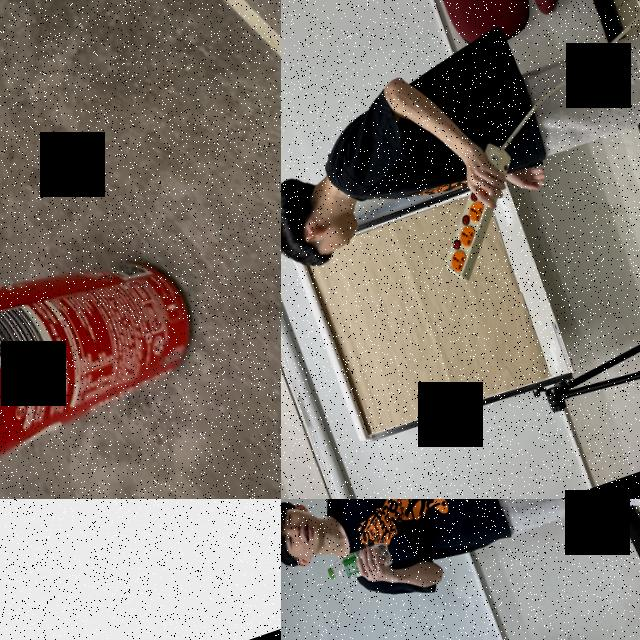bottle: (0, 499, 281, 562), (323, 540, 395, 586)
can: (0, 208, 221, 499)
